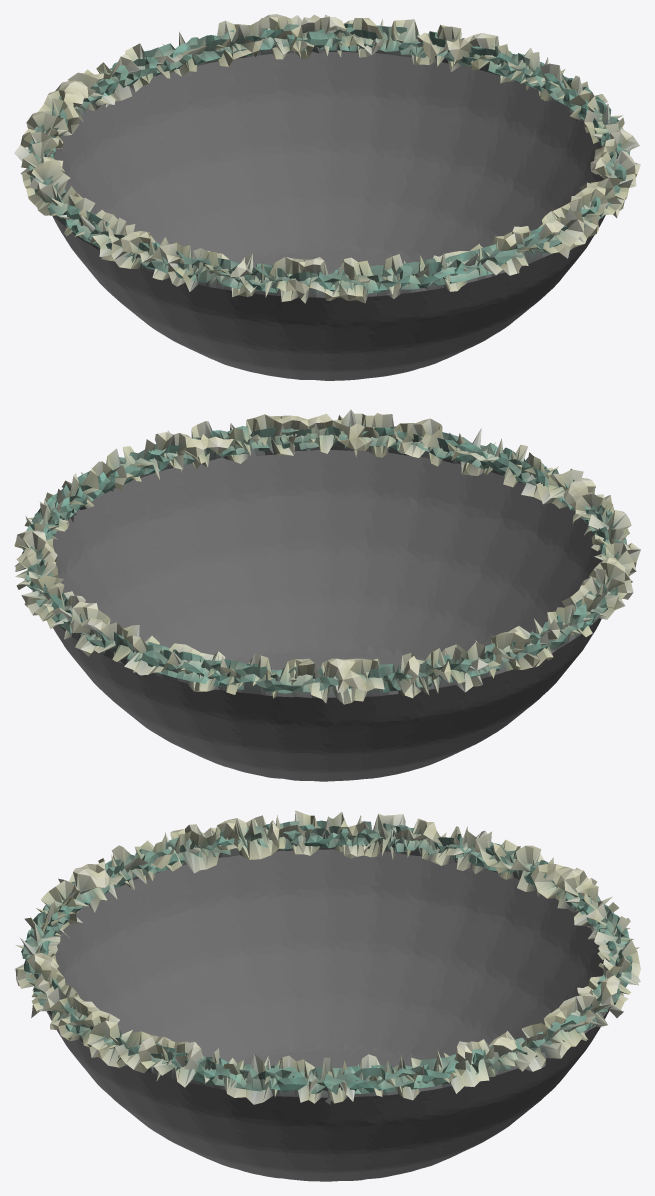
File: bowl_final100.obj
3 views of the same model, one above another, from view 1: azimuth 30°, elevation 25°; view 2: azimuth 150°, elevation 25°; view 3: azimuth 270°, elevation 25° (orthographic).
Bounding box in the file's own units: 1.97 × 0.6859 × 1.96.
